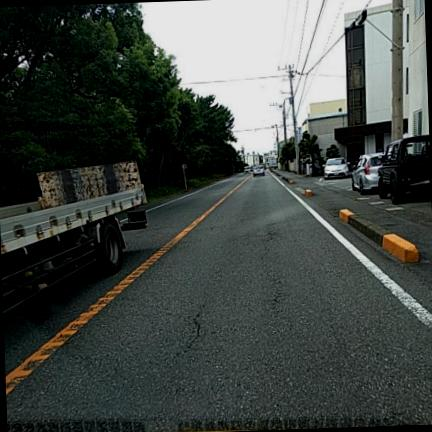Road: (3, 174, 431, 431)
